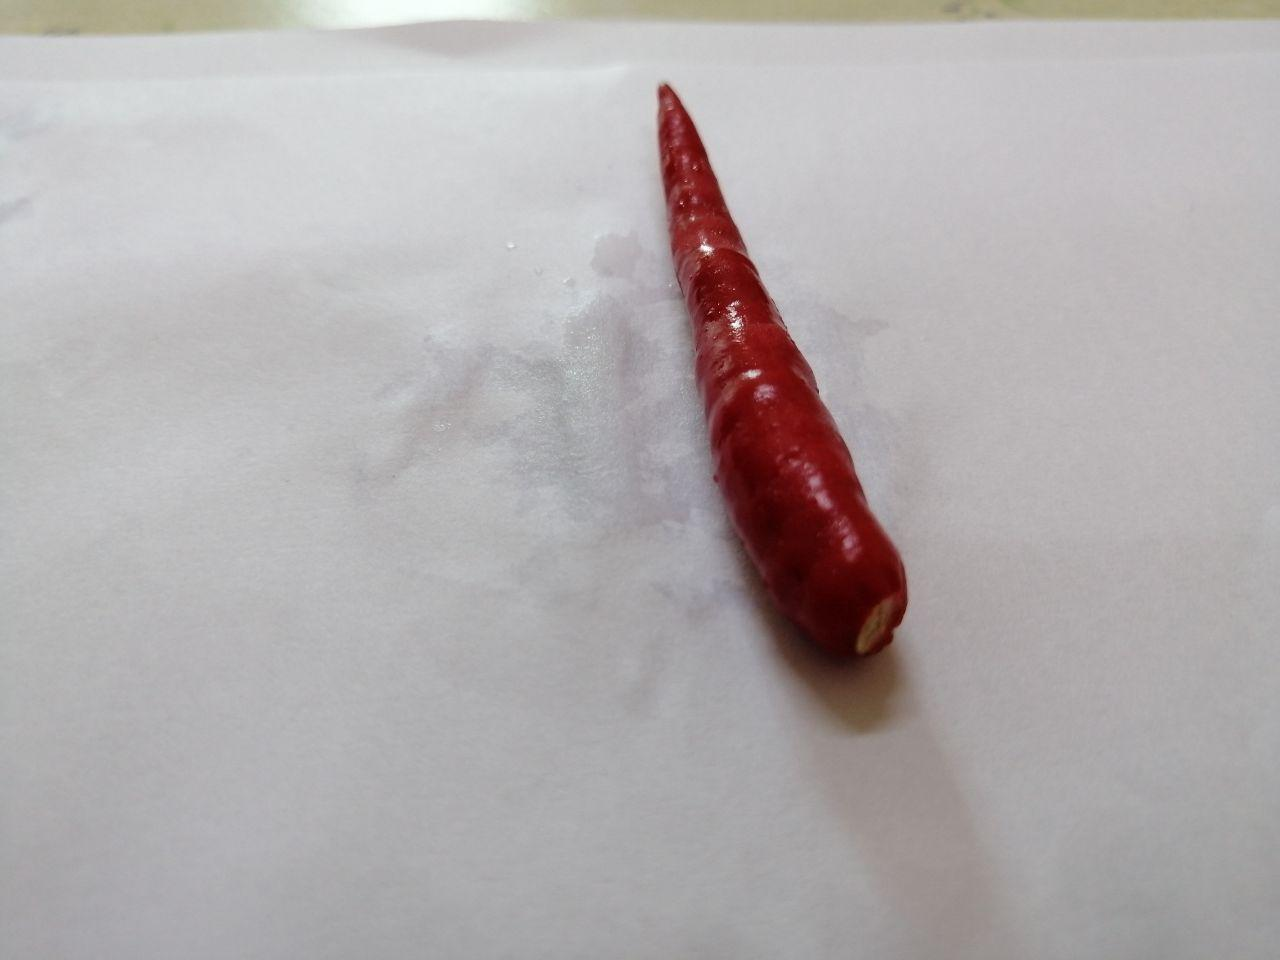lada merah: (615, 67, 934, 702)
